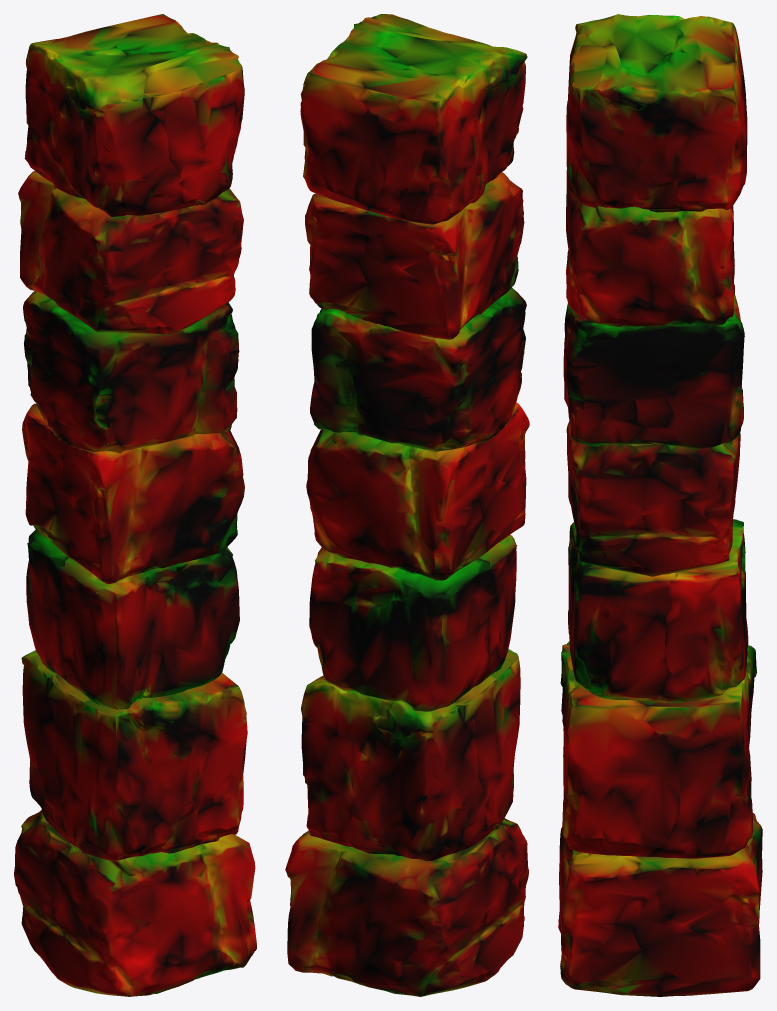
File: SM_Stone_Pillar_01.fbx
3 views of the same model, side by side, from view 1: azimuth 30°, elevation 25°; view 2: azimuth 150°, elevation 25°; view 3: azimuth 270°, elevation 25° (orthographic).
Visible parts, largest first — view 1: SM_Stone_Pillar_01_LOD0; view 2: SM_Stone_Pillar_01_LOD0; view 3: SM_Stone_Pillar_01_LOD0.
Boxes of the visible parts, x1,y1,x2,y2 form: SM_Stone_Pillar_01_LOD0: (14, 14, 256, 996); SM_Stone_Pillar_01_LOD0: (285, 14, 529, 996); SM_Stone_Pillar_01_LOD0: (558, 14, 762, 996).
Size of the model in its own units: 57.17 by 61.72 by 307.
